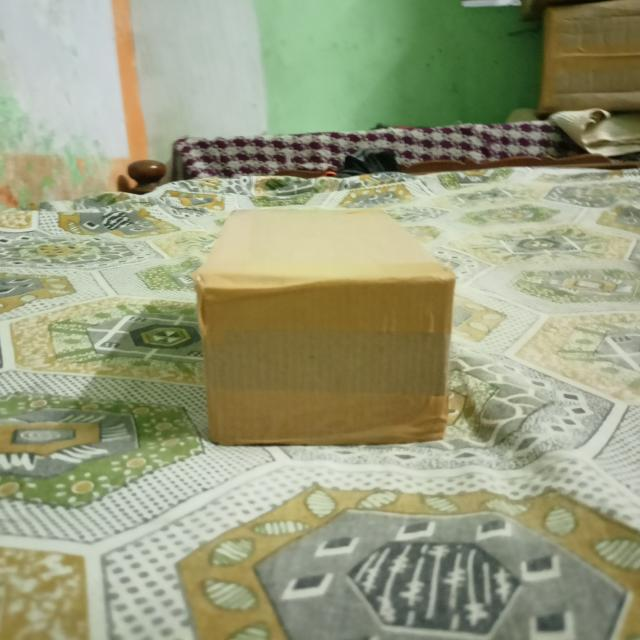box: (201, 279, 452, 447)
